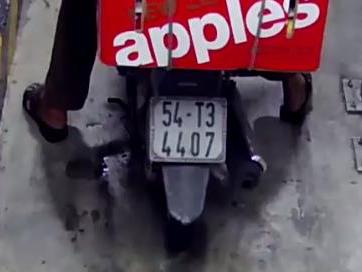num_plate: (147, 93, 231, 166)
